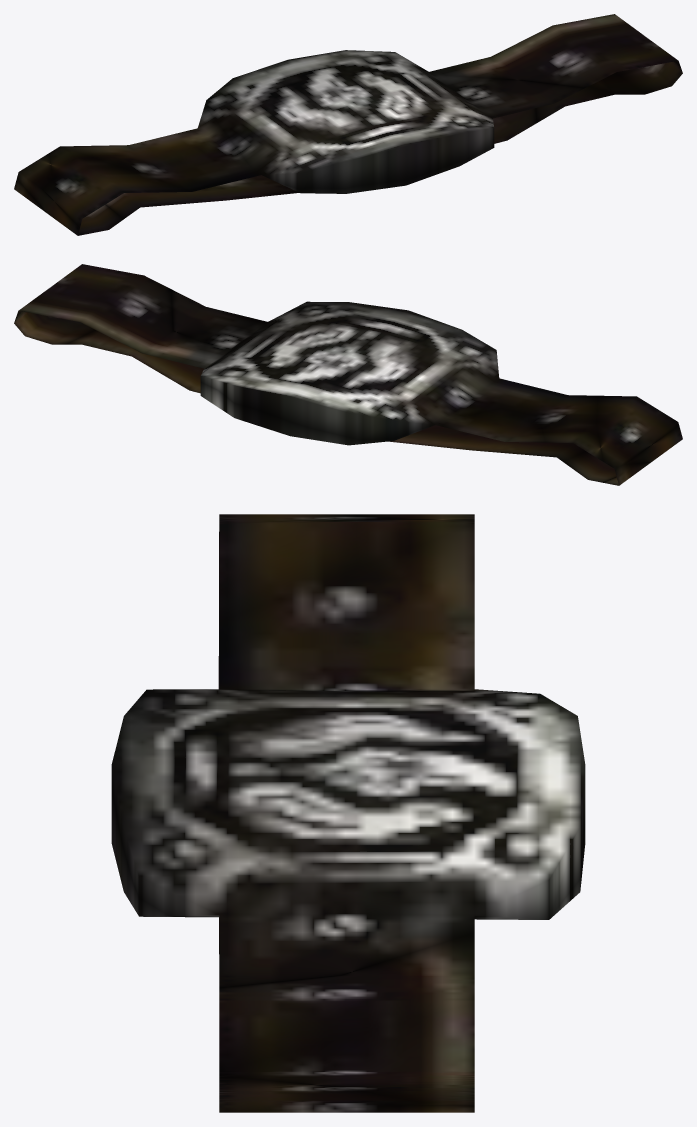
File: ITMI_BELT_02.glb
The picture shows the model from 3 angles, top to bottom: view 1: azimuth 30°, elevation 25°; view 2: azimuth 150°, elevation 25°; view 3: azimuth 270°, elevation 25°; orthographic projection. The views are drawn at different scales.
Parts seen in each view (by area): view 1: Mesh; view 2: Mesh; view 3: Mesh.
Part boxes in pixels (box(x1,y1,x2,y2)): Mesh: box(14, 14, 682, 235); Mesh: box(14, 264, 682, 485); Mesh: box(111, 514, 585, 1112).
Size of the model in its own units: 0.2518 by 0.0191 by 0.0854.
Materials: 1 (1 with a texture image).
